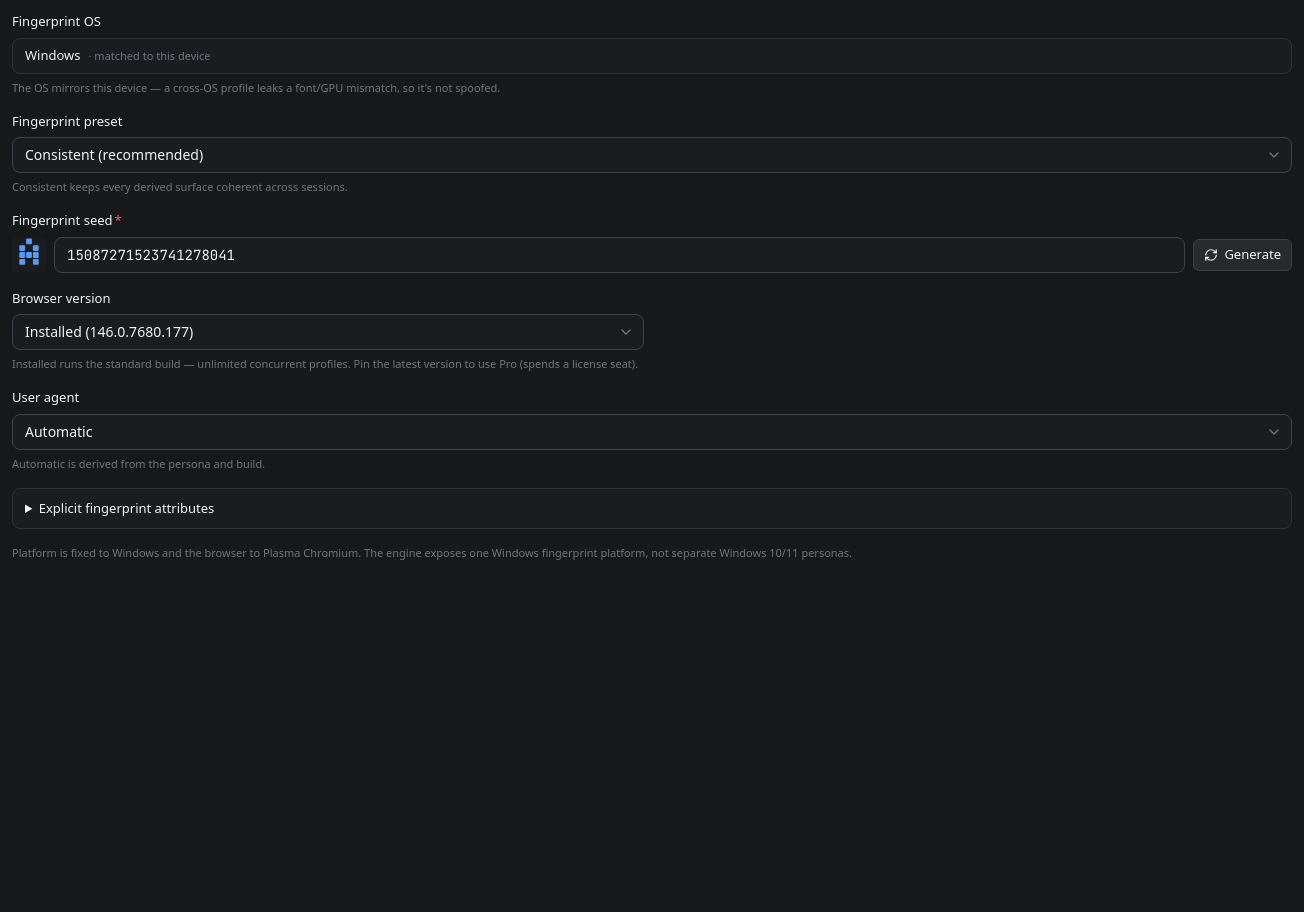
explicit fingerprint attributes editor › starts collapsed and exposes optional identity controls on request
Expected: the field labelled "GPU vendor" is not shown
Step 1. Click the heading "Explicit fingerprint attributes" → (127, 508), box [39, 498, 214, 516]
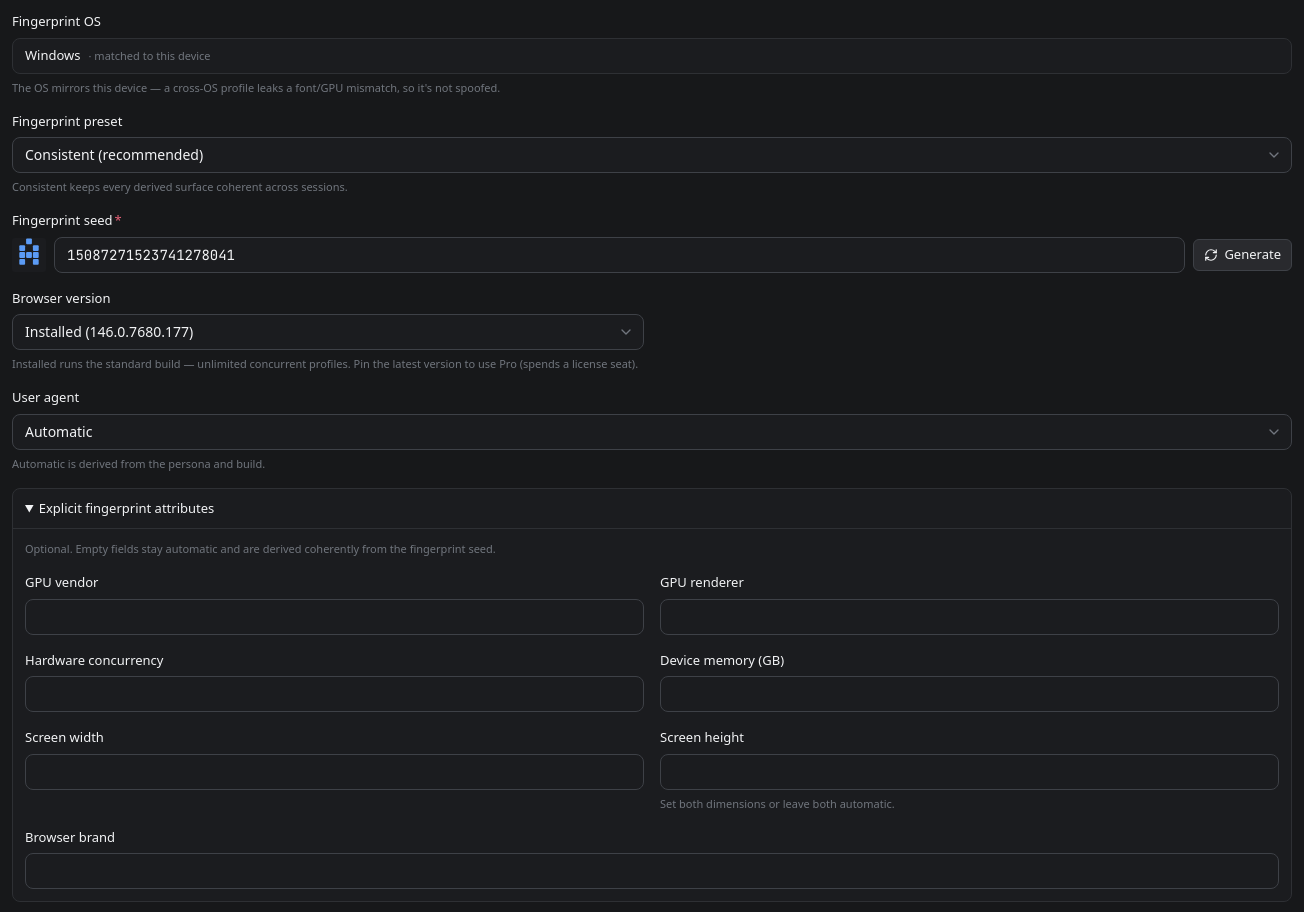
Expected: the field labelled "GPU vendor" is empty, [25, 598, 644, 634]
Expected: the number field labelled "Screen width" is not empty, [25, 754, 644, 790]
Expected: the number field labelled "Screen height" is not empty, [660, 754, 1279, 790]
